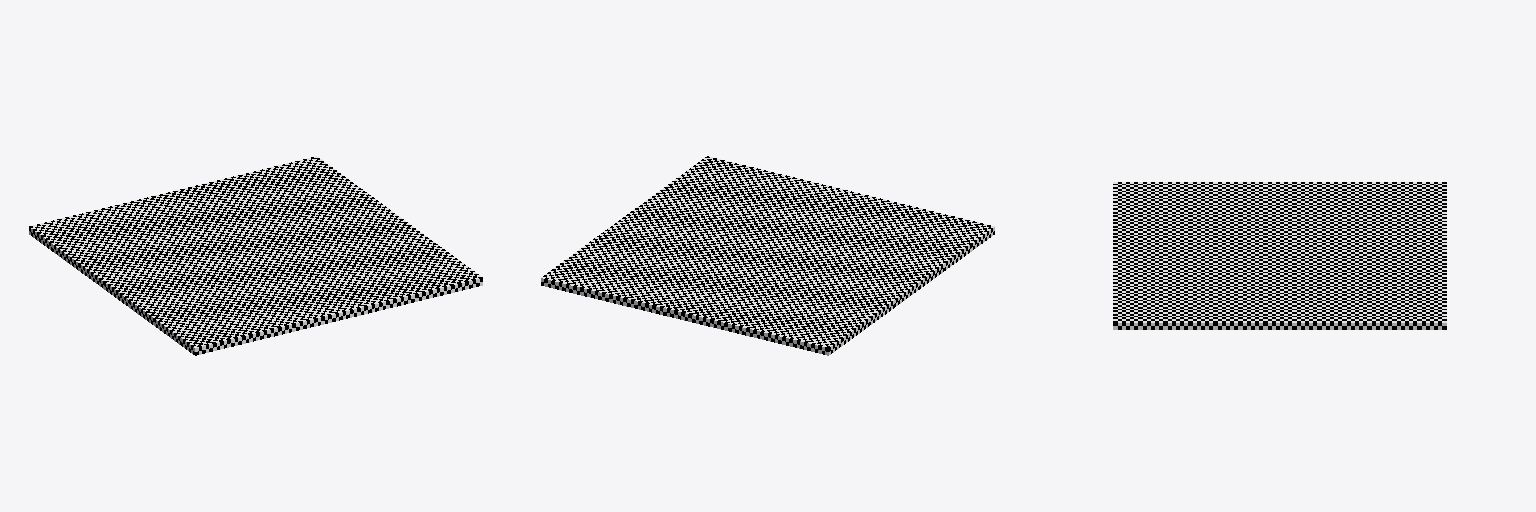
3 views of the same model, side by side, from view 1: azimuth 30°, elevation 25°; view 2: azimuth 150°, elevation 25°; view 3: azimuth 270°, elevation 25° (orthographic).
Bounding box in the file's own units: 400 × 10 × 400.
1 materials, 1 textured.